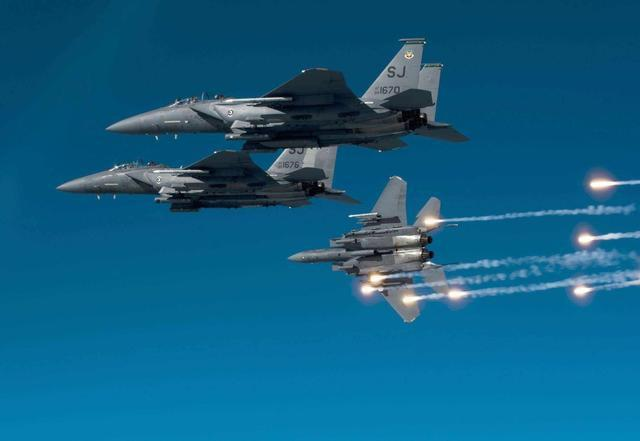airplane: (93, 33, 461, 147), (50, 117, 360, 212), (275, 175, 461, 324)
